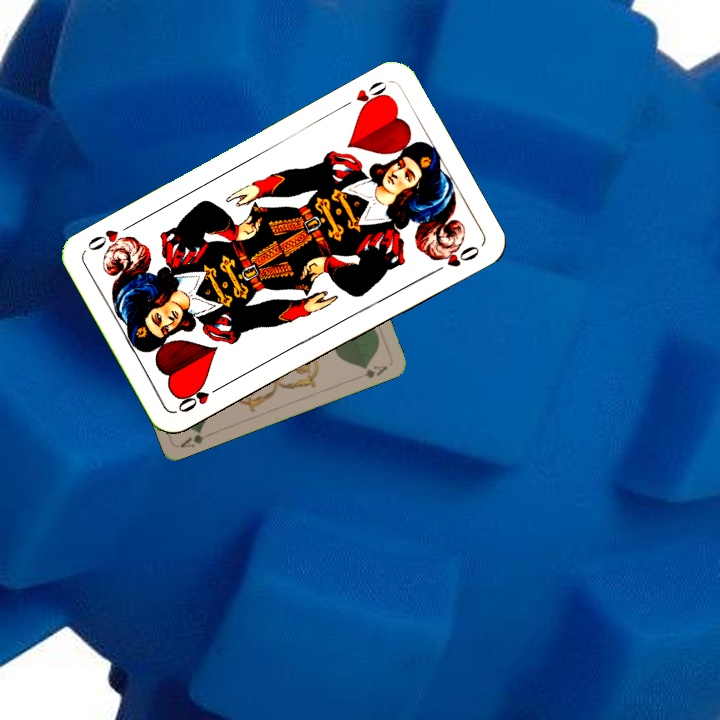GA: (176, 425, 207, 450)
HO: (336, 77, 391, 115), (173, 380, 227, 415)
